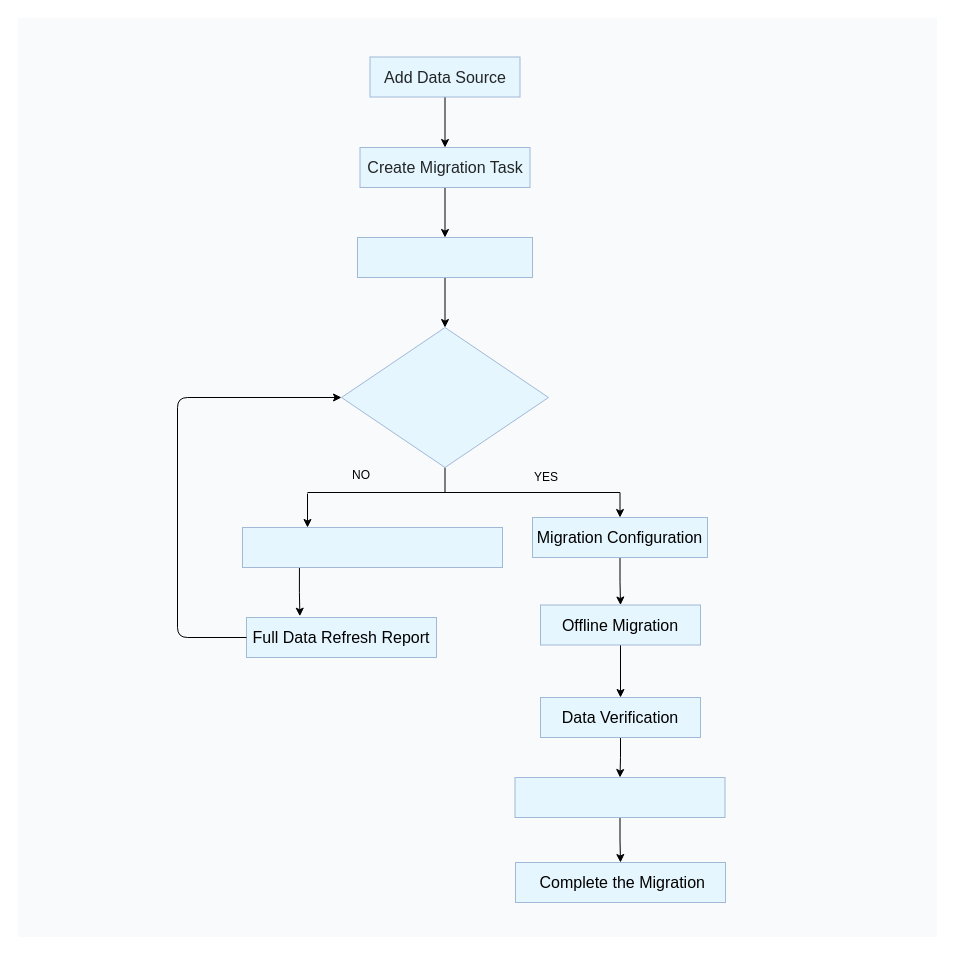
The diagram is 955 pixels wide and 955 high, and some of its shapes have lost their labels. Each missing label, with the centre of its shape:
"Are the assessment results 100% compatible?" goes at (444,397).
"Generate Migration Report" goes at (619,797).
"Manually Fix Incompatible Objects" goes at (372,547).
"Migration Assessment" goes at (444,257).
